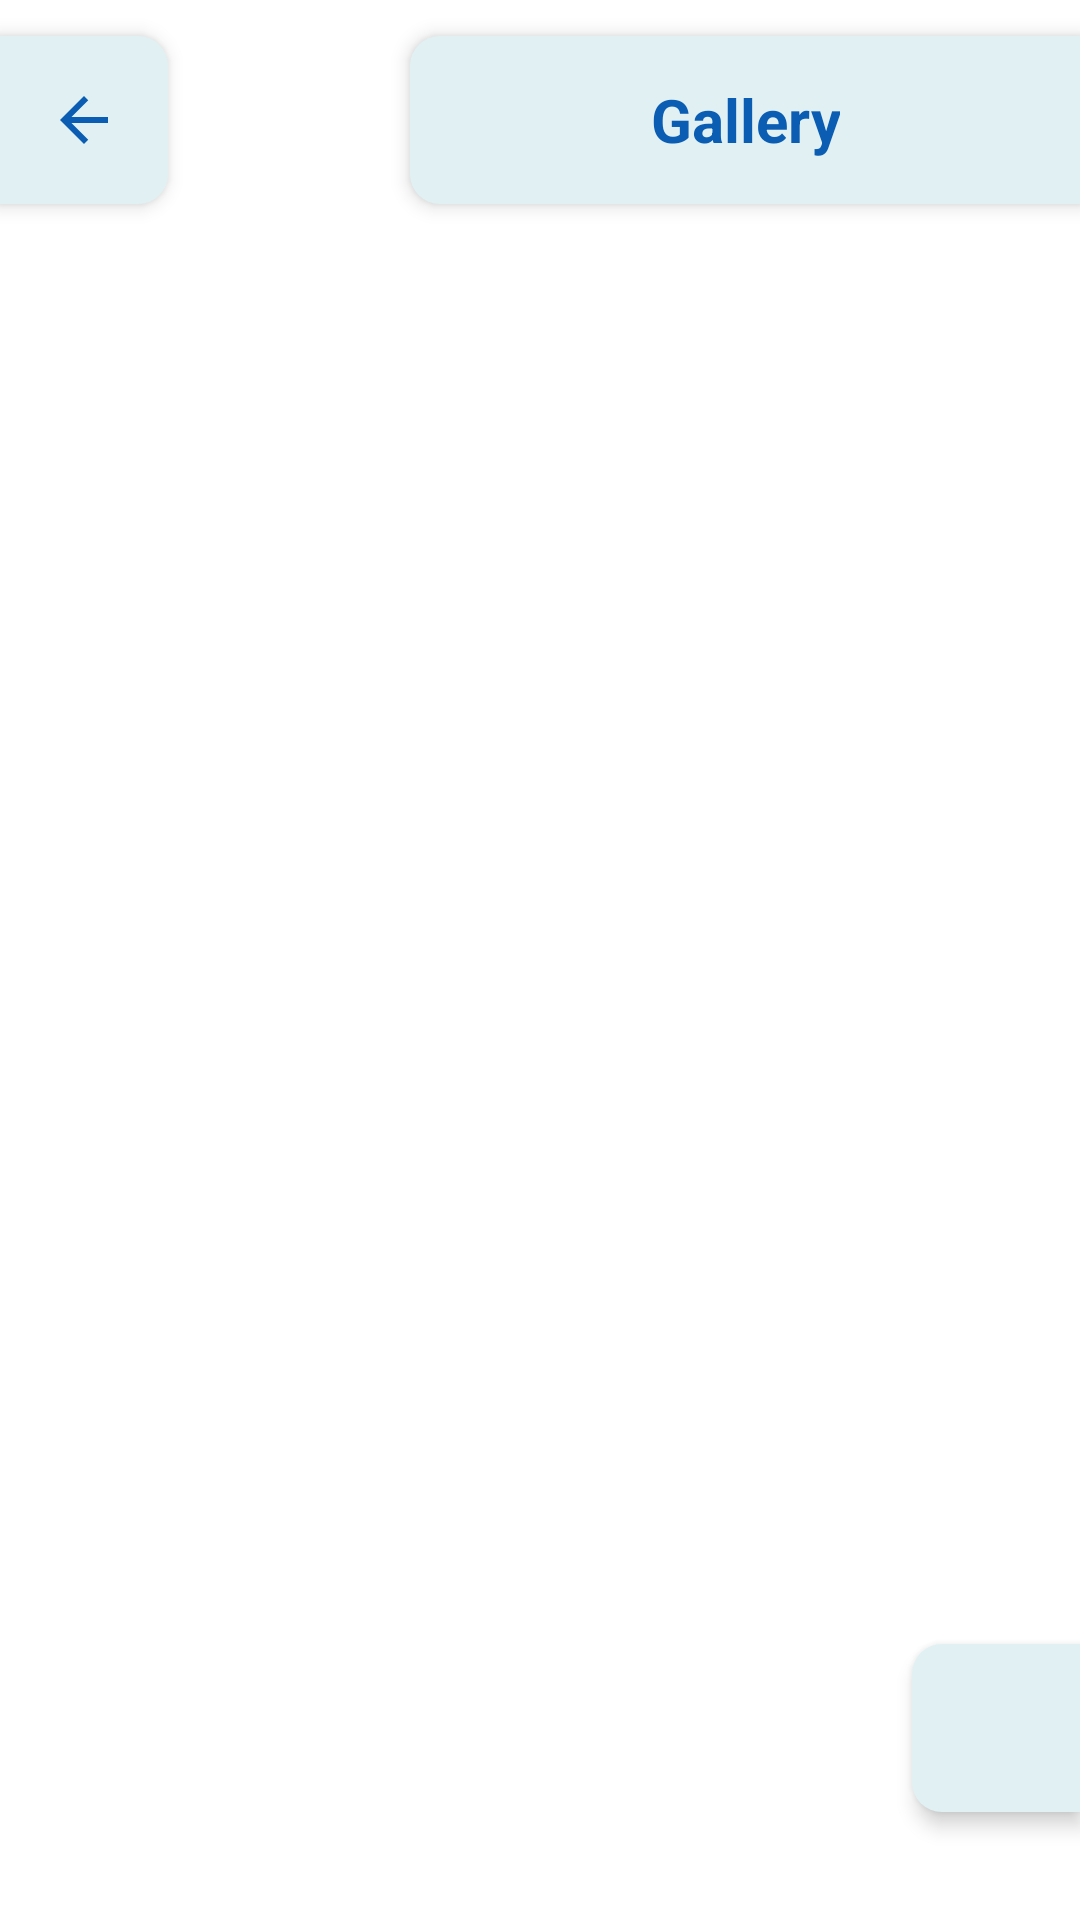

Screen size 1080 x 1920. Icon name, then its center in pixels as (x,y):
back: (84,120)
